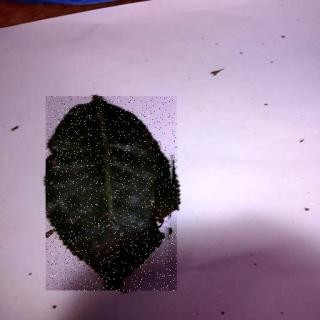Anthracnose: (47, 98, 179, 293)
